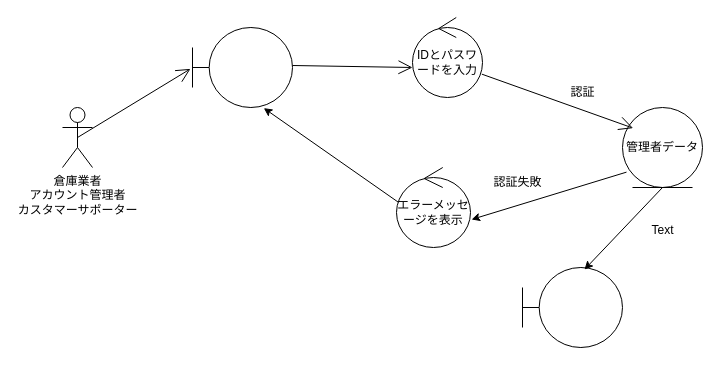
This 720x365 diagram has some shape labels left out. The box of each missing label's shape, as (x1, y1, x2, y2) in pixels:
メニュー画面: (522, 266, 622, 348)
ログイン画面: (192, 26, 292, 108)
